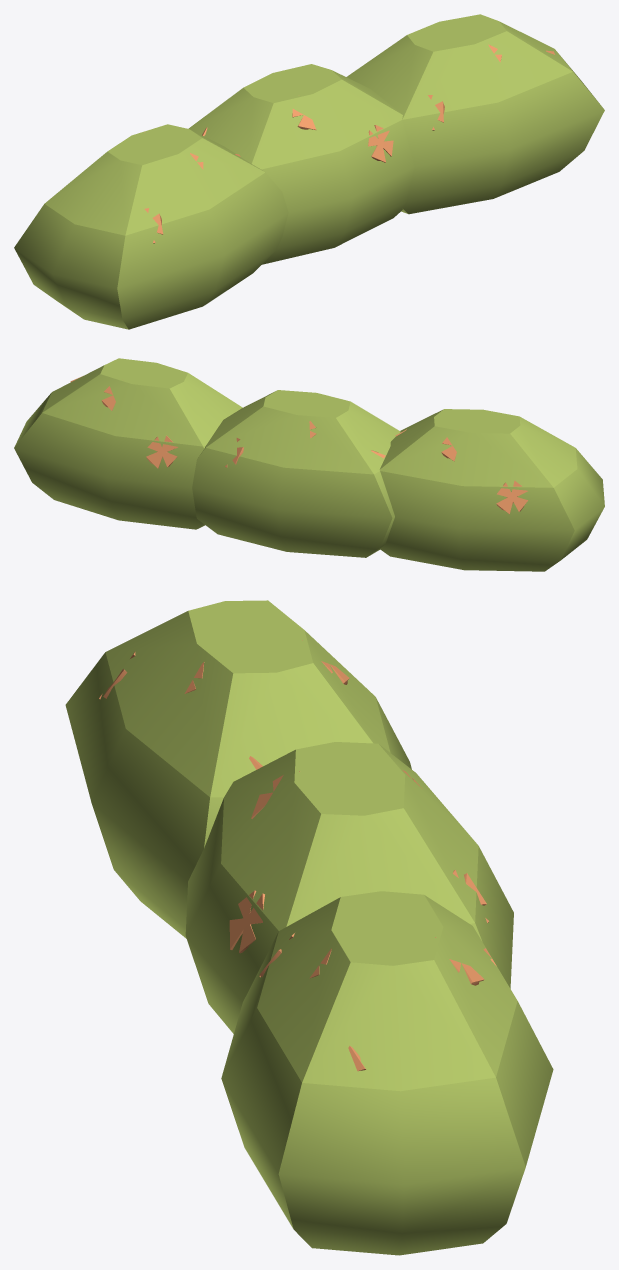
Rendered from bushes_grp_05.fbx.
3 renders of one model, top to bottom at view 1: azimuth 30°, elevation 25°; view 2: azimuth 150°, elevation 25°; view 3: azimuth 270°, elevation 25°, orthographic. The views are drawn at different scales.
Parts seen in each view (by area): view 1: bush_geo (×3), flower_geo6; view 2: bush_geo (×3), flower_geo6 (×2); view 3: bush_geo (×3), flower_geo6.
Boxes of the visible parts, left/top/right/bottom form: bush_geo (×3): left=14, top=14, right=604, bottom=329; flower_geo6: left=368, top=125, right=393, bottom=162; bush_geo (×3): left=14, top=358, right=604, bottom=571; flower_geo6 (×2): left=146, top=435, right=527, bottom=514; bush_geo (×3): left=65, top=600, right=553, bottom=1255; flower_geo6: left=229, top=890, right=264, bottom=953.
Size of the model in its own units: 0.03 by 0.00689 by 0.0121.
